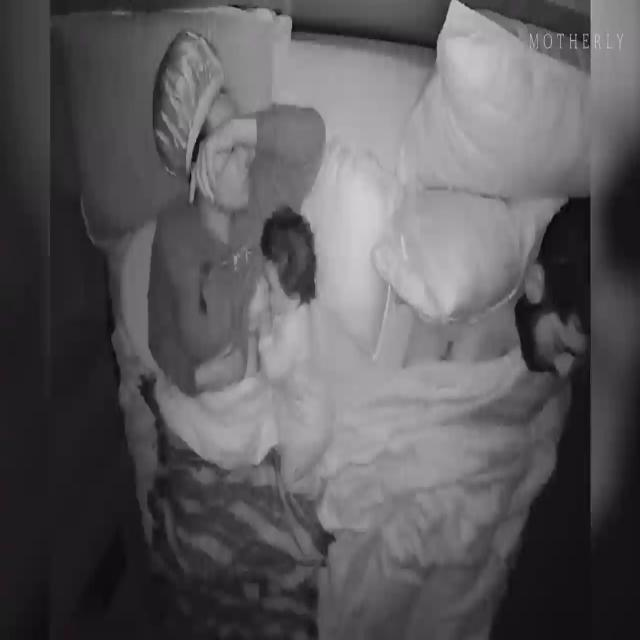baby: (255, 206, 334, 501)
